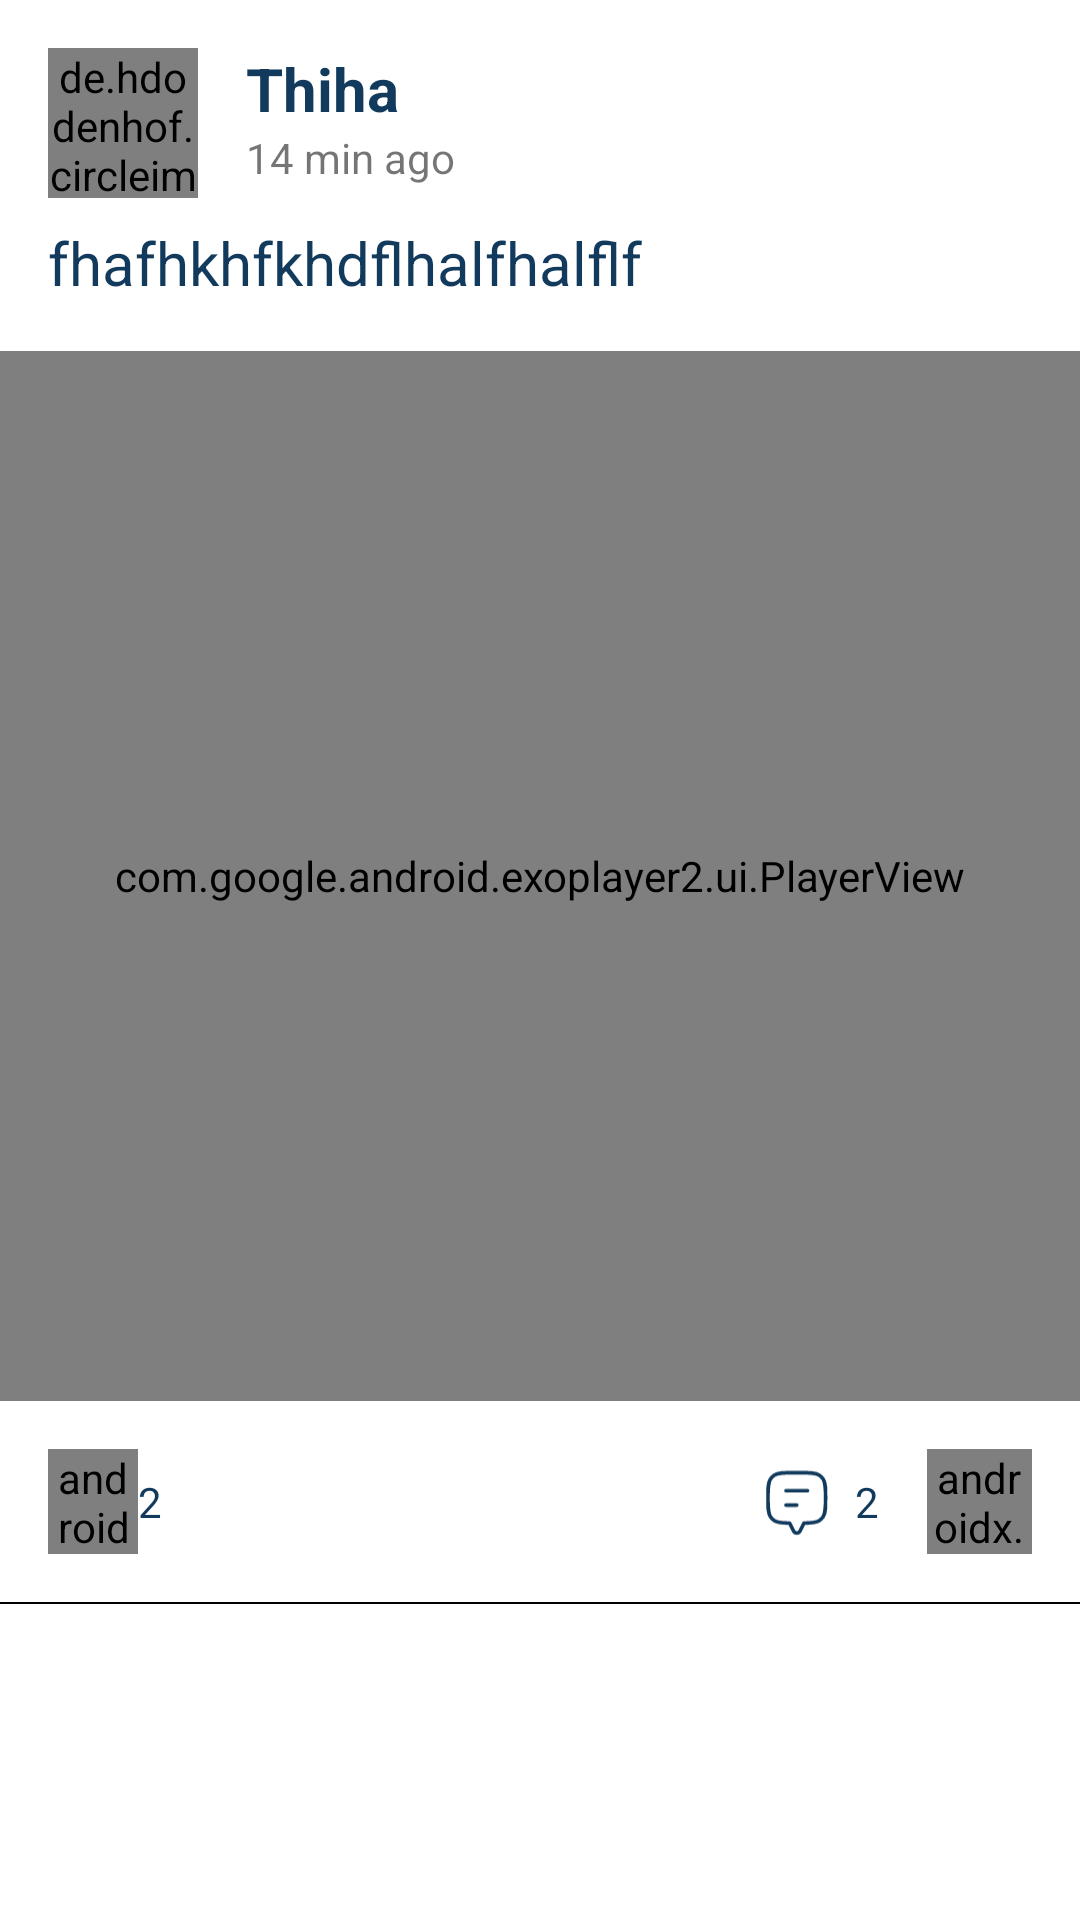

Named icons in this screenshot (1080w x 1920h) and their bounding boxes, bbox(x1, y1, x2, y2):
comment: bbox(766, 1470, 828, 1536)
